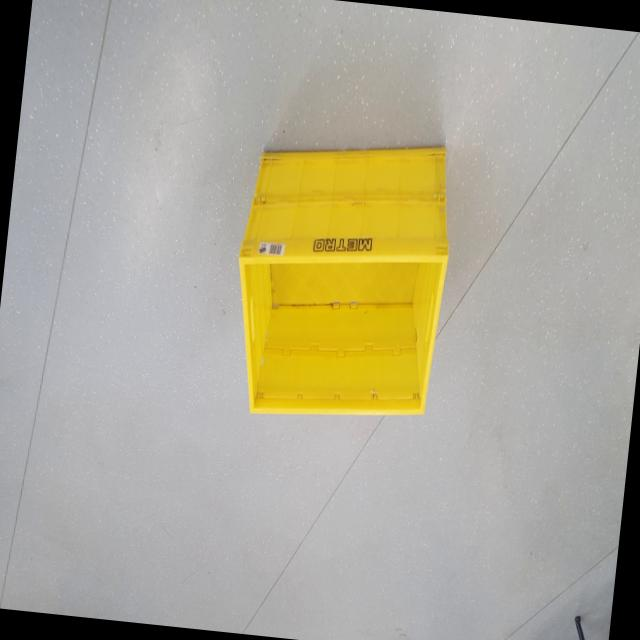box: (214, 120, 472, 442)
